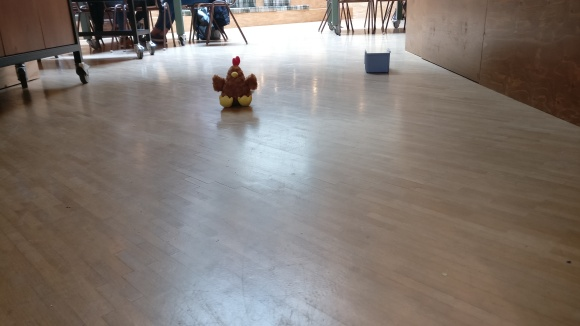chicken: (211, 55, 258, 109)
tray: (362, 48, 391, 74)
